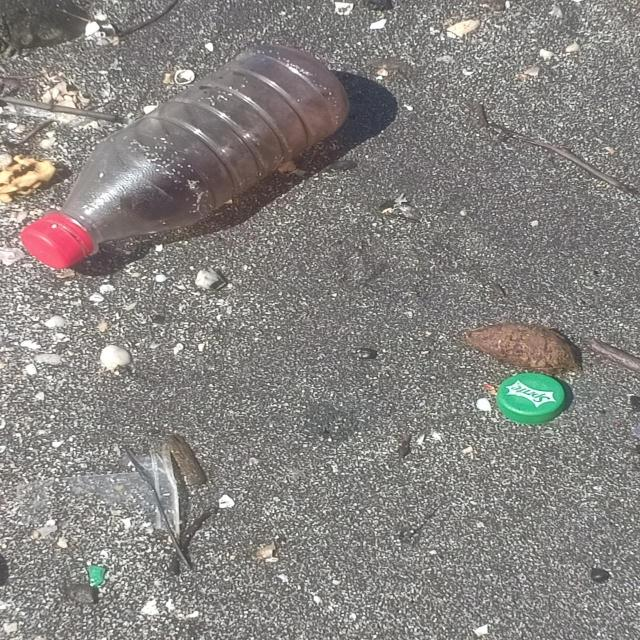plastic_waste: (18, 47, 351, 274), (498, 374, 569, 428)
